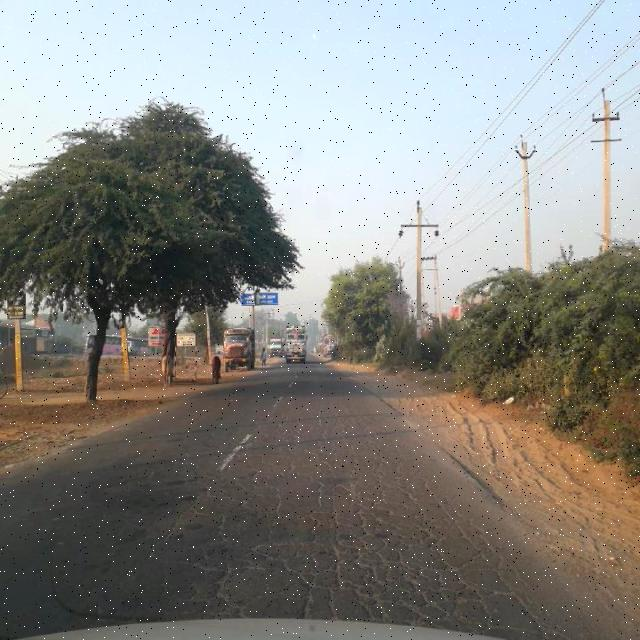D20: (117, 419, 548, 616)
